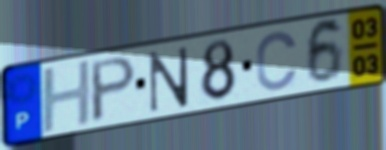6: (302, 16, 346, 89)
8: (197, 37, 239, 104)
C: (254, 28, 300, 93)
H: (40, 57, 94, 137)
N: (147, 44, 190, 115)
P: (88, 54, 139, 126)
